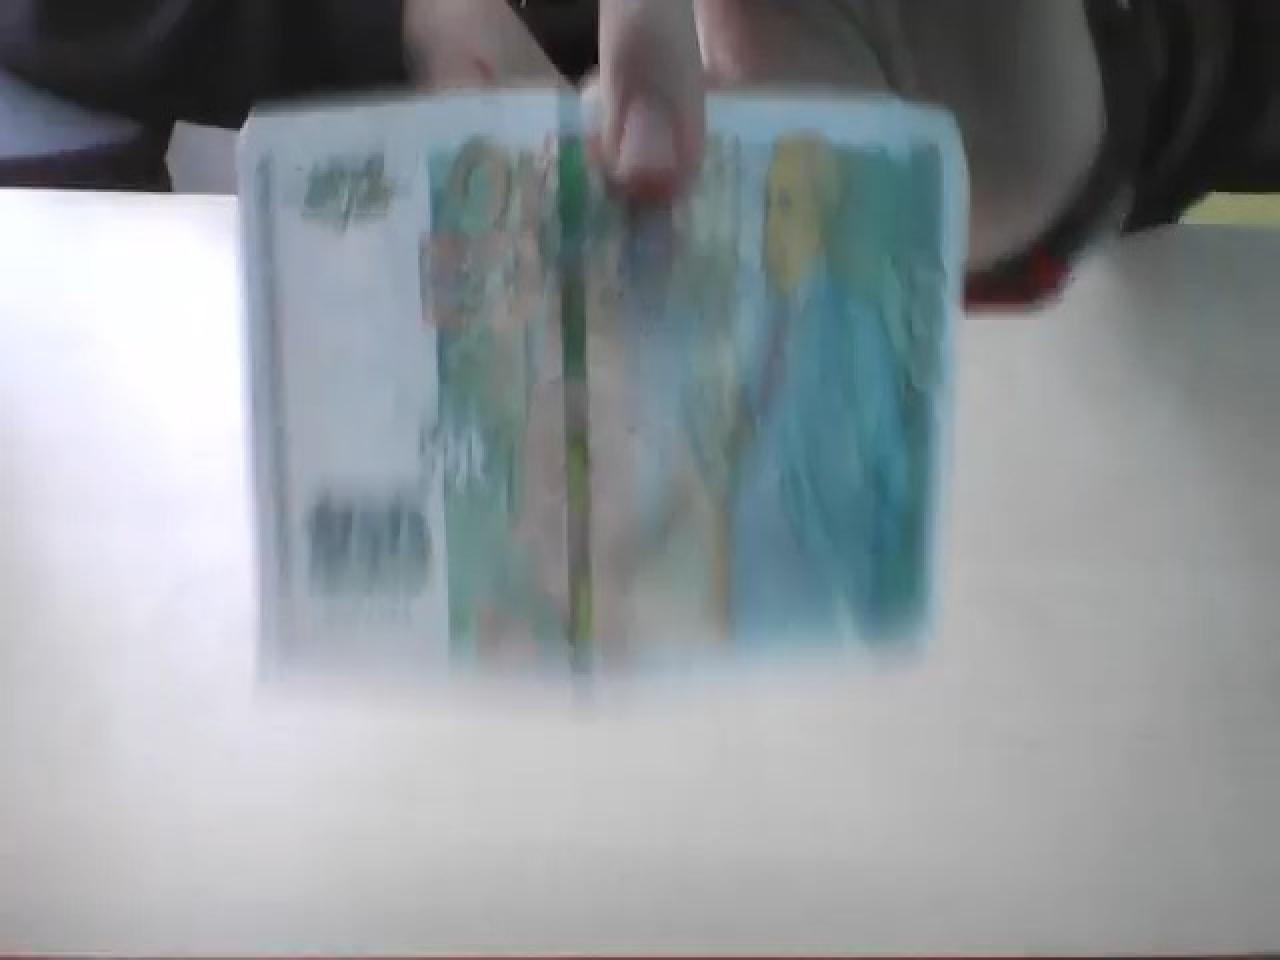100leva: (238, 80, 968, 699)
